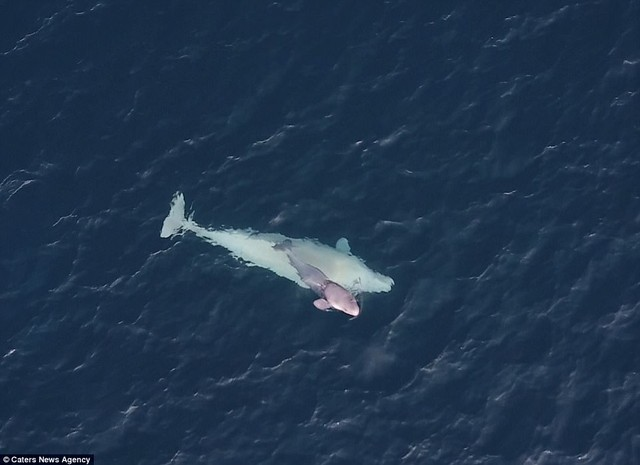whale: (152, 185, 401, 311), (272, 235, 363, 323)
